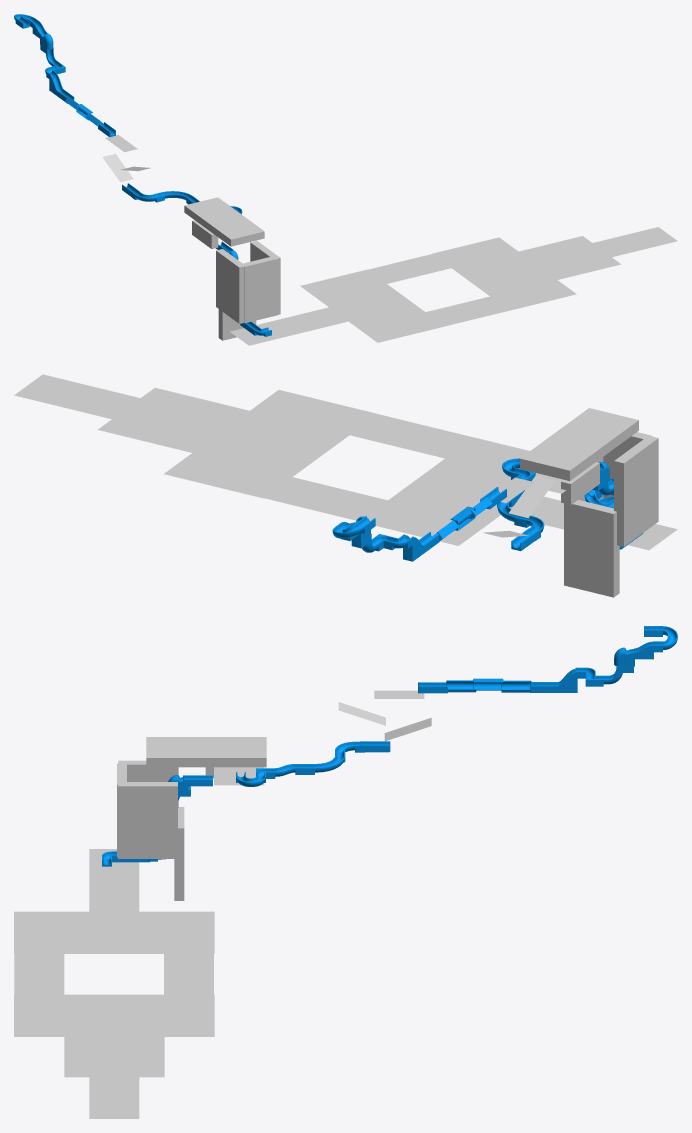
File: Nathan's Level 2.fbx
The picture shows the model from 3 angles, top to bottom: view 1: azimuth 30°, elevation 25°; view 2: azimuth 150°, elevation 25°; view 3: azimuth 270°, elevation 25°; orthographic projection. The views are drawn at different scales.
Parts seen in each view (by area): view 1: Plane__7_, Plane__4_, Plane__8_, Plane__3_, Cube__4_, Cube__1_, Cube__3_, Plane__6_, Plane__9_, Plane__5_, Cube__2_; view 2: Plane__7_, Plane__4_, Plane__8_, Cube__5_, Cube__4_, Cube__3_, Plane__9_, Plane__6_, Plane__5_, Plane__3_, Cube, Plane__1_ (+6 smaller); view 3: Plane__7_, Plane__4_, Cube__2_, Plane__8_, Plane__3_, Cube__4_, Plane__5_, Plane__6_, Plane__9_, Cube__3_, Cube__5_.
Boxes of the visible parts, <box> form: Plane__7_: <box>432,237,576,309</box>; Plane__4_: <box>300,269,444,342</box>; Plane__8_: <box>517,236,621,280</box>; Plane__3_: <box>230,298,383,345</box>; Cube__4_: <box>184,197,264,246</box>; Cube__1_: <box>243,256,278,323</box>; Cube__3_: <box>216,249,245,323</box>; Plane__6_: <box>425,296,511,326</box>; Plane__9_: <box>591,227,677,257</box>; Plane__5_: <box>367,254,450,283</box>; Cube__2_: <box>250,241,280,314</box>; Plane__7_: <box>164,390,375,498</box>; Plane__4_: <box>367,437,529,545</box>; Plane__8_: <box>97,387,253,452</box>; Cube__5_: <box>564,500,619,597</box>; Cube__4_: <box>520,408,638,480</box>; Cube__3_: <box>614,435,658,546</box>; Plane__9_: <box>14,374,141,419</box>; Plane__6_: <box>347,413,473,458</box>; Plane__5_: <box>261,476,387,520</box>; Plane__3_: <box>450,481,677,550</box>; Cube: <box>561,462,599,504</box>; Plane__1_: <box>509,475,555,518</box>; Plane__7_: <box>14,994,214,1036</box>; Plane__4_: <box>14,911,214,953</box>; Cube__2_: <box>118,782,177,858</box>; Plane__8_: <box>64,1035,164,1077</box>; Plane__3_: <box>89,849,139,933</box>; Cube__4_: <box>146,737,266,767</box>; Plane__5_: <box>164,953,213,995</box>; Plane__6_: <box>14,953,64,994</box>; Plane__9_: <box>89,1077,139,1118</box>; Cube__3_: <box>118,760,178,808</box>; Cube__5_: <box>174,807,184,900</box>.
Size of the model in its own units: 6572 by 2670 by 6616.
